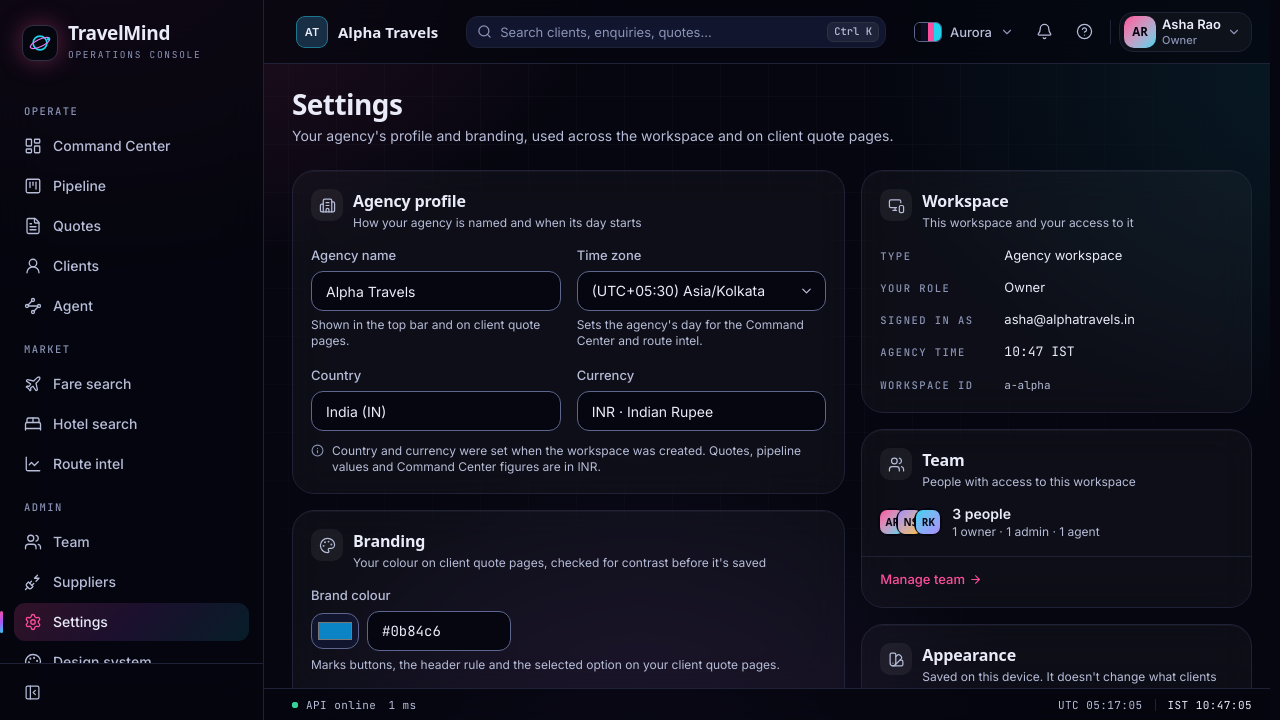
a mid-tone that clears 3:1 but carries no readable text is blocked, and the preview shows the fallback
Replace the text in the field named "Brand colour hex" with "#767676" at x=439, y=631, box [367, 611, 511, 651]
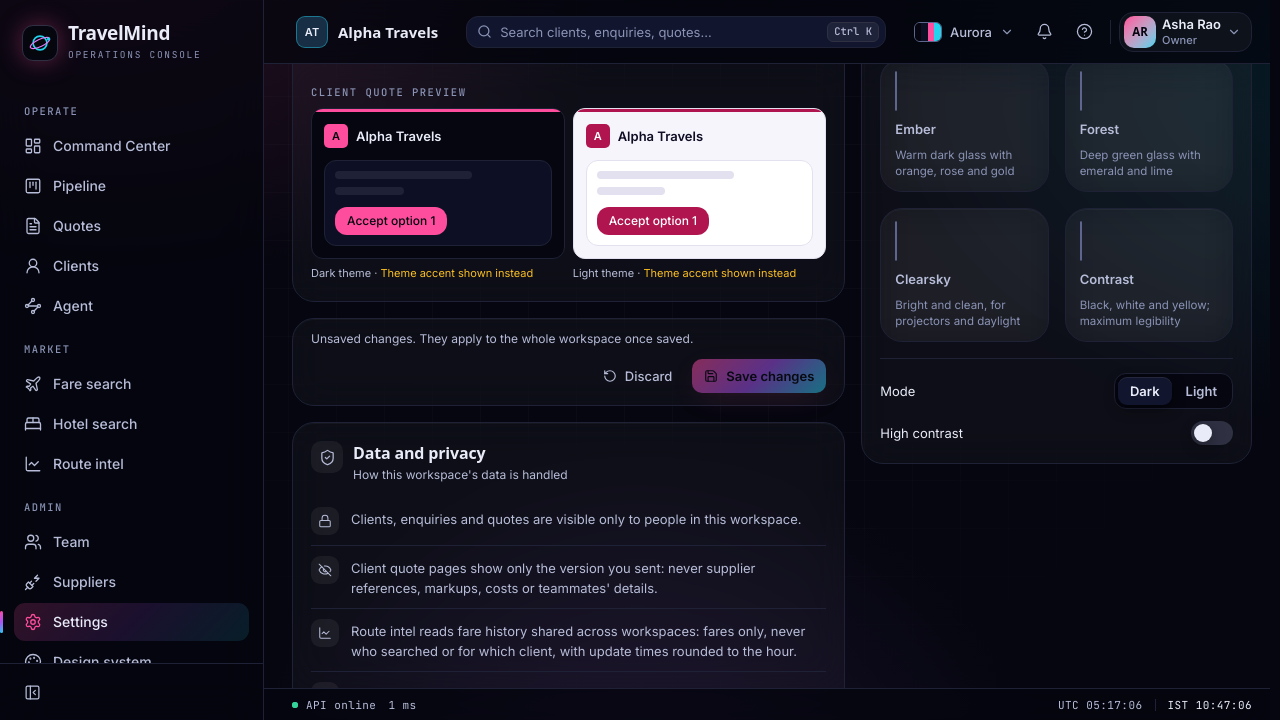
Expected: the button "Save changes" is disabled, [692, 359, 826, 393]
Expected: the text "Theme accent shown instead" is shown 2 times, [380, 266, 533, 280]; [643, 266, 796, 280]
